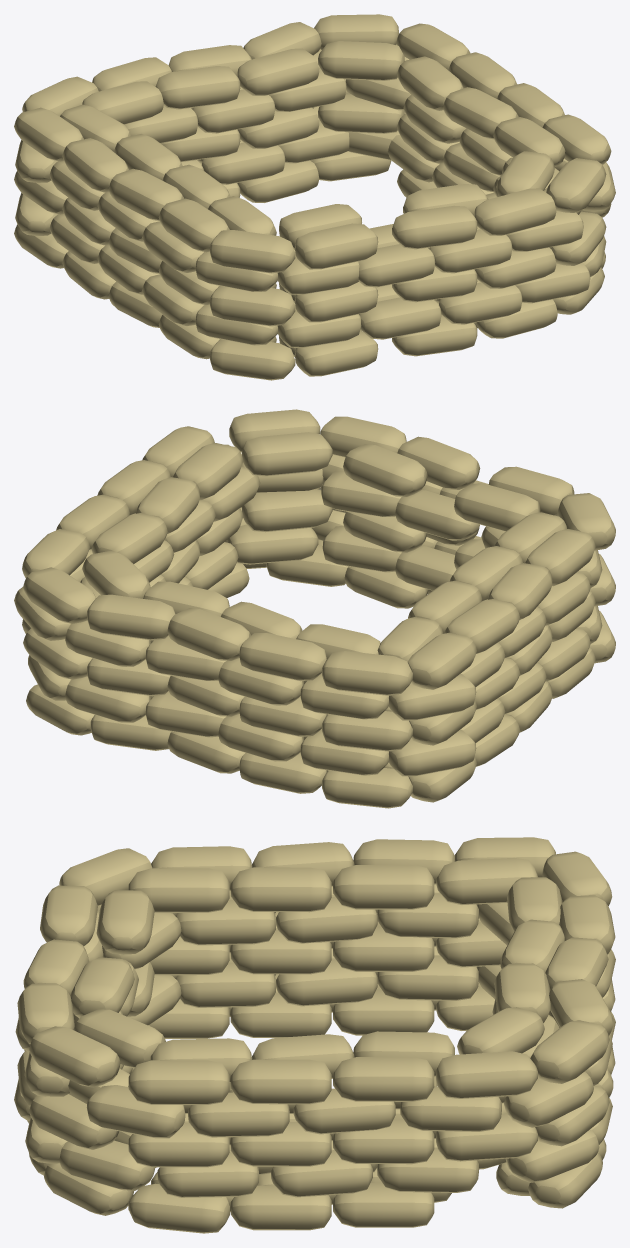
The model's file is Prop_SandBagBunker_Mod_01.fbx.
The picture shows the model from 3 angles, top to bottom: view 1: azimuth 30°, elevation 25°; view 2: azimuth 150°, elevation 25°; view 3: azimuth 270°, elevation 25°; orthographic projection. The views are drawn at different scales.
Parts seen in each view (by area): view 1: SandBagBunker; view 2: SandBagBunker; view 3: SandBagBunker.
Boxes of the visible parts, x1,y1,x2,y2 form: SandBagBunker: [14, 14, 615, 380]; SandBagBunker: [14, 409, 615, 808]; SandBagBunker: [14, 837, 615, 1233].
Bounding box in the file's own units: 13.2 × 3.85 × 13.15.
